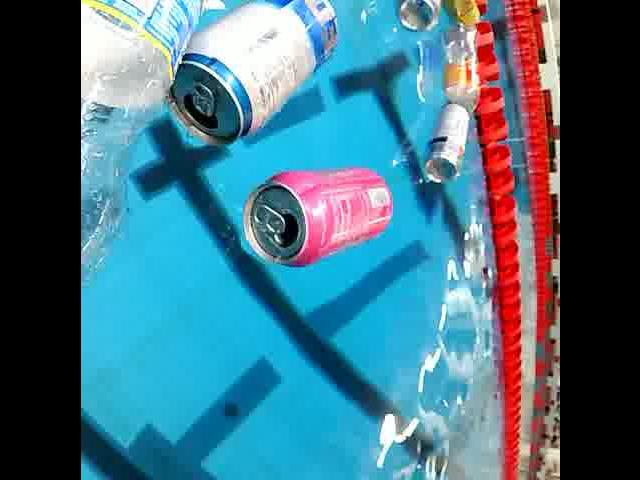Bottle: (80, 0, 211, 300), (438, 20, 482, 120)
Can: (160, 0, 342, 150), (234, 161, 394, 269), (417, 100, 471, 188), (390, 0, 448, 33), (436, 0, 480, 32)
